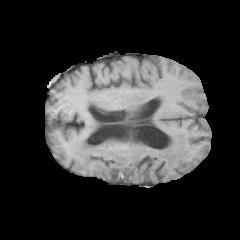glioma: (69, 119, 187, 180)
